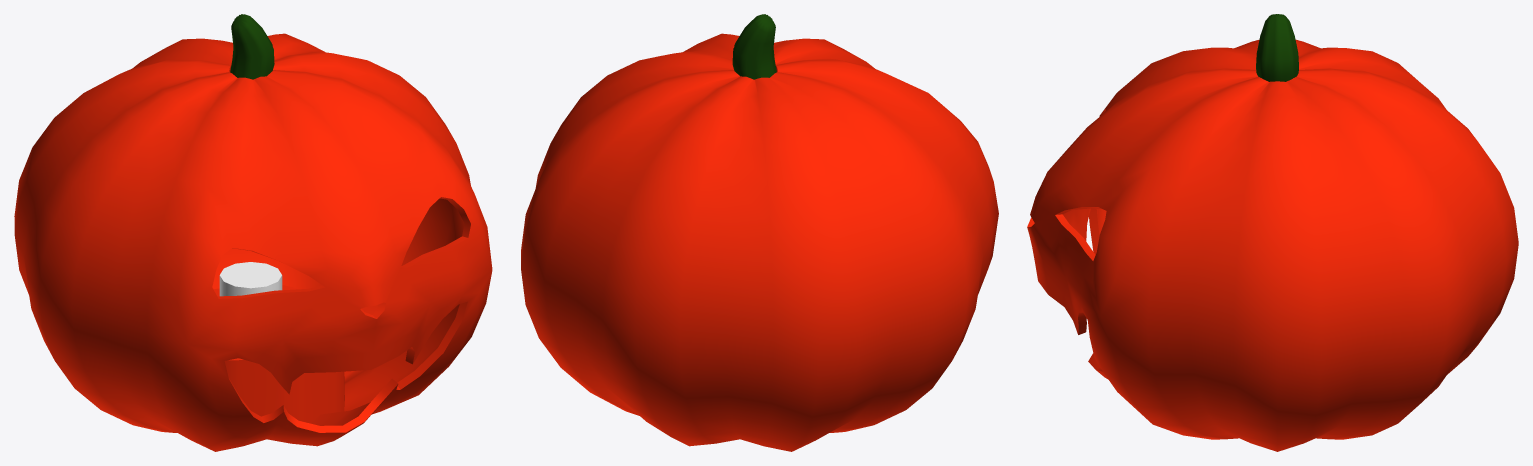
The model's file is jack_low.FBX.
The picture shows the model from 3 angles, left to right: view 1: azimuth 30°, elevation 25°; view 2: azimuth 150°, elevation 25°; view 3: azimuth 270°, elevation 25°; orthographic projection.
Visible parts, largest first — view 1: jack, jack_B, candle_low; view 2: jack, jack_B; view 3: jack, jack_B.
Part boxes in pixels (x1=…): jack: x1=14, y1=33, x2=492, y2=451; jack_B: x1=230, y1=14, x2=274, y2=79; candle_low: x1=219, y1=262, x2=282, y2=296; jack: x1=521, y1=33, x2=998, y2=451; jack_B: x1=732, y1=14, x2=776, y2=79; jack: x1=1027, y1=39, x2=1518, y2=451; jack_B: x1=1256, y1=14, x2=1298, y2=81.
Bounding box in the file's own units: 54.36 × 48.86 × 55.4.
